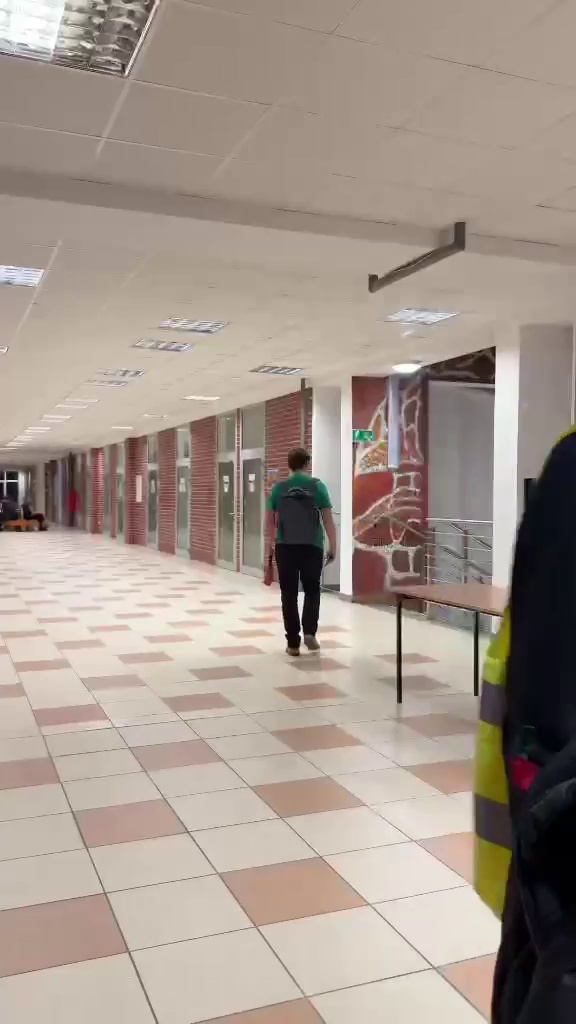no vest: (260, 440, 344, 653)
